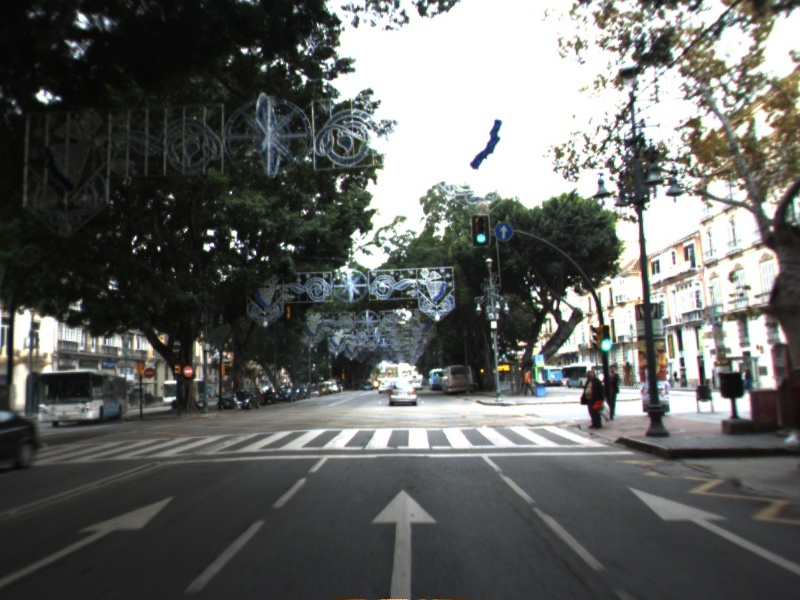STRAIGHT: (1, 492, 181, 586), (624, 482, 798, 574), (367, 485, 440, 600)
